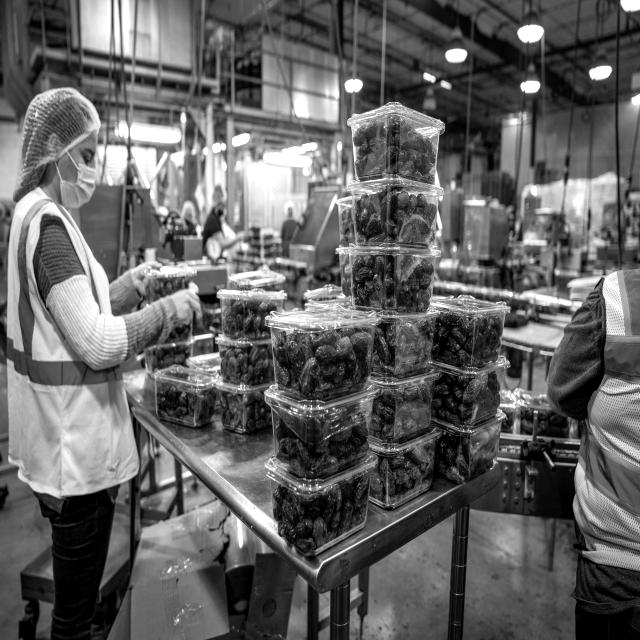Vest: (6, 193, 148, 498), (575, 267, 640, 568)
